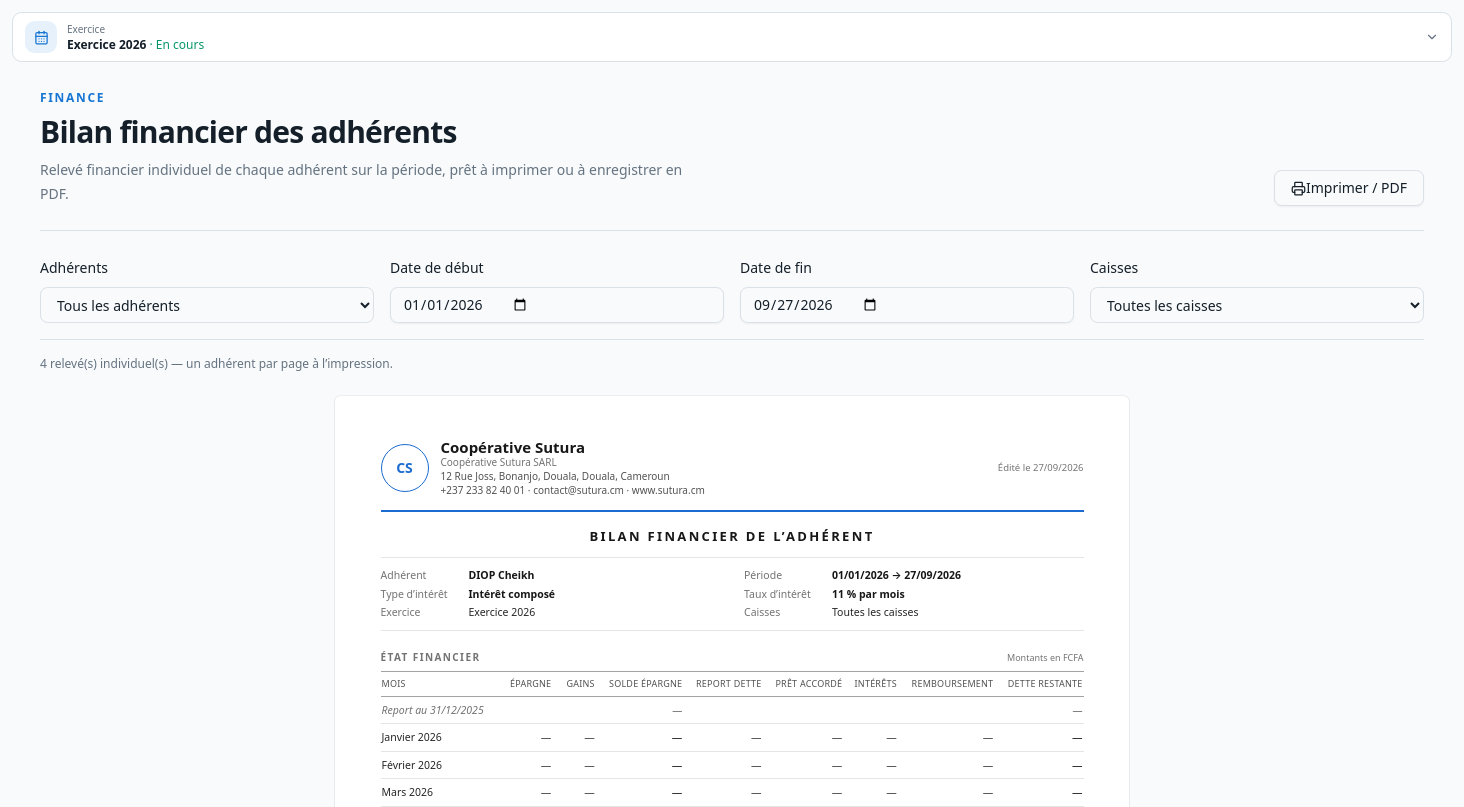
Test: Bilan financier de l’adhérent — relevés › prêts aux paramètres historisés différents : « Selon le prêt » et le détail prêt par prêt (jamais un taux unique trompeur)
Expected: the date field labelled "Date de début" holds "2026-01-01", 390,287 -> 724,323
Expected: the date field labelled "Date de fin" holds "2026-09-27", 740,287 -> 1074,323
Select "Adhérents sélectionnés" in the dropdown labelled "Adhérents". click: (207, 305)
box: 40,287 -> 374,323
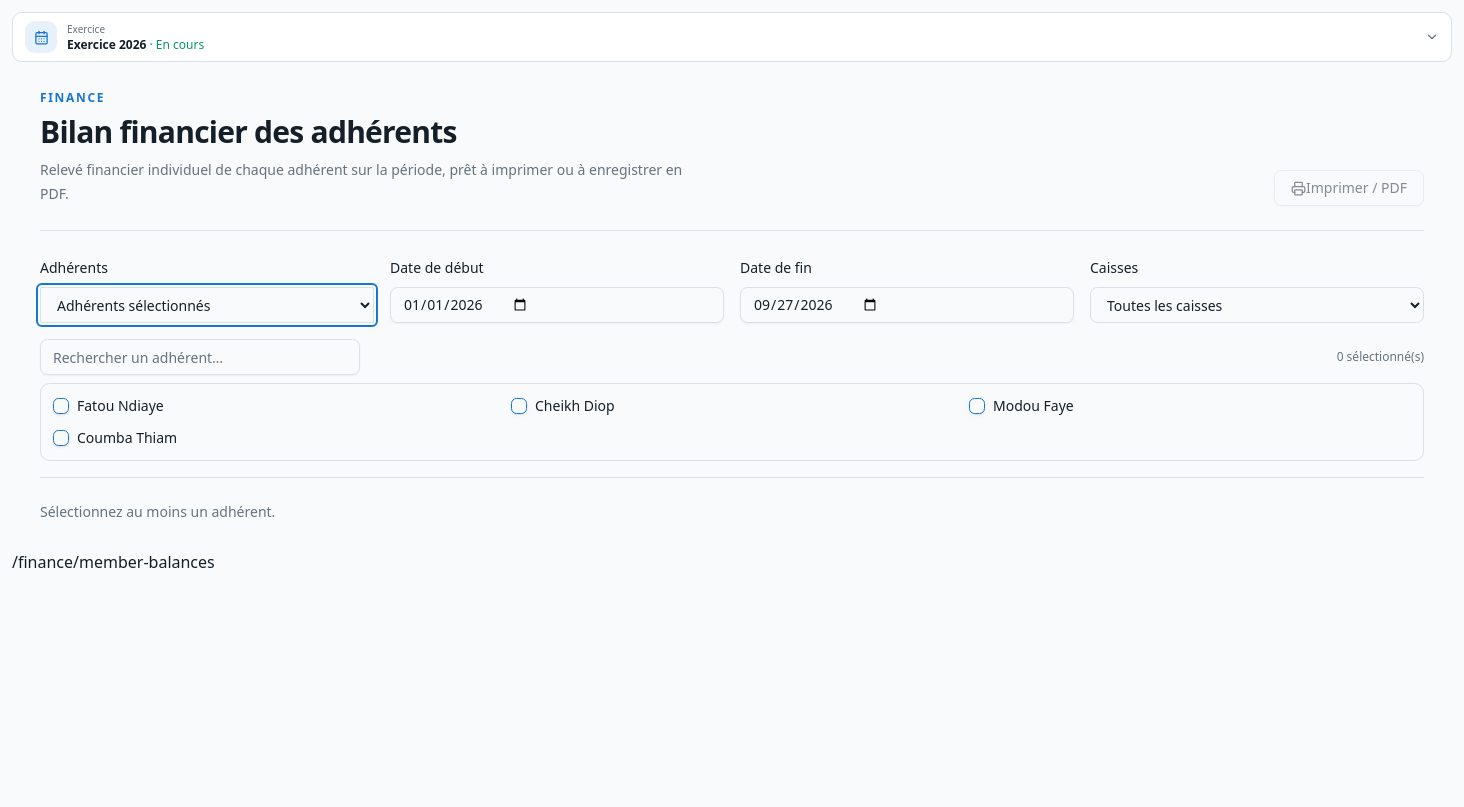
Click the checkbox named "Modou Faye". click: (977, 406)
box: 969,398 -> 985,414
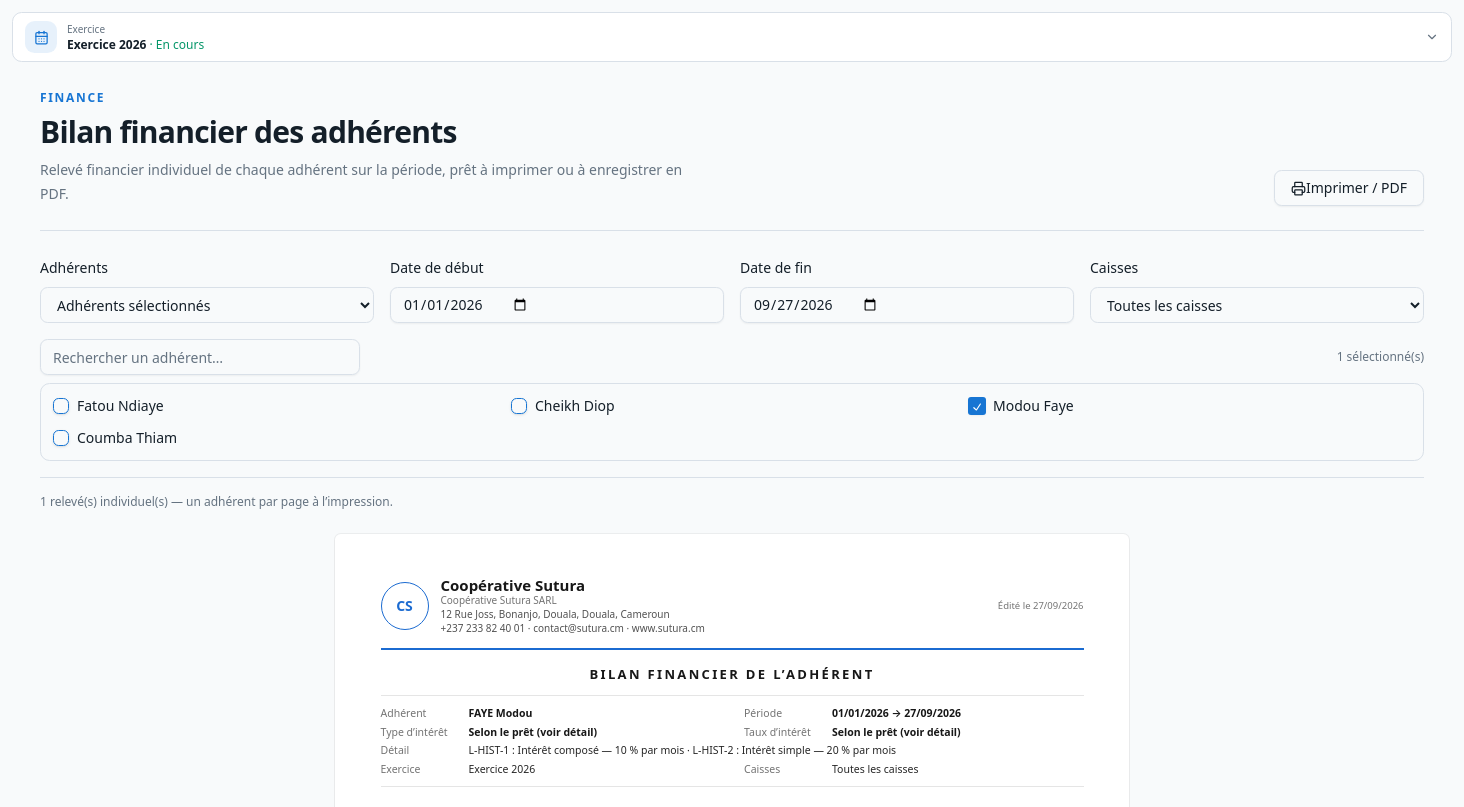
Expected: the text with test id "mb-interest-type" shows "Selon le prêt", 468,725 -> 597,739
Expected: the text with test id "mb-interest-rate" shows "Selon le prêt", 832,725 -> 961,739
Expected: the element with test id "mb-interest-per-loan" shows "L-HIST-1 : Intérêt composé — 10 % par mois", 468,743 -> 896,757
